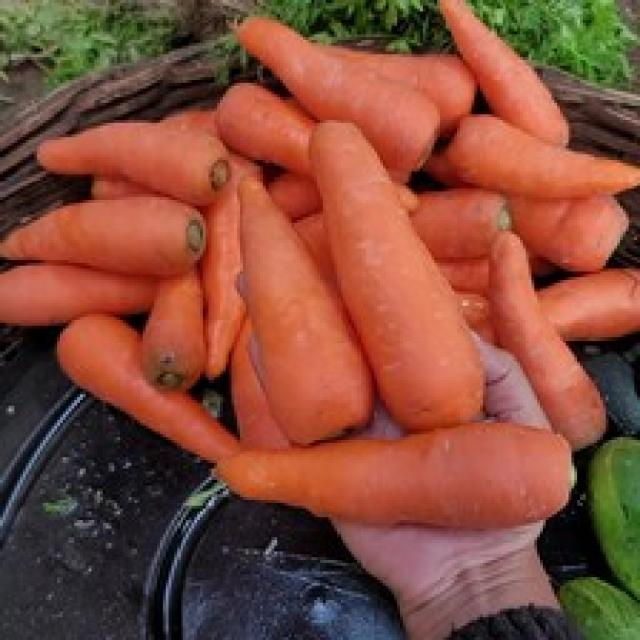Fresh_Carrot: (307, 115, 486, 434), (237, 173, 371, 452), (220, 428, 576, 533), (54, 313, 250, 467), (0, 198, 211, 276)
